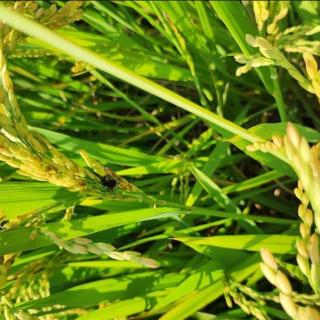Gosong-Palsu: (98, 173, 118, 191)
